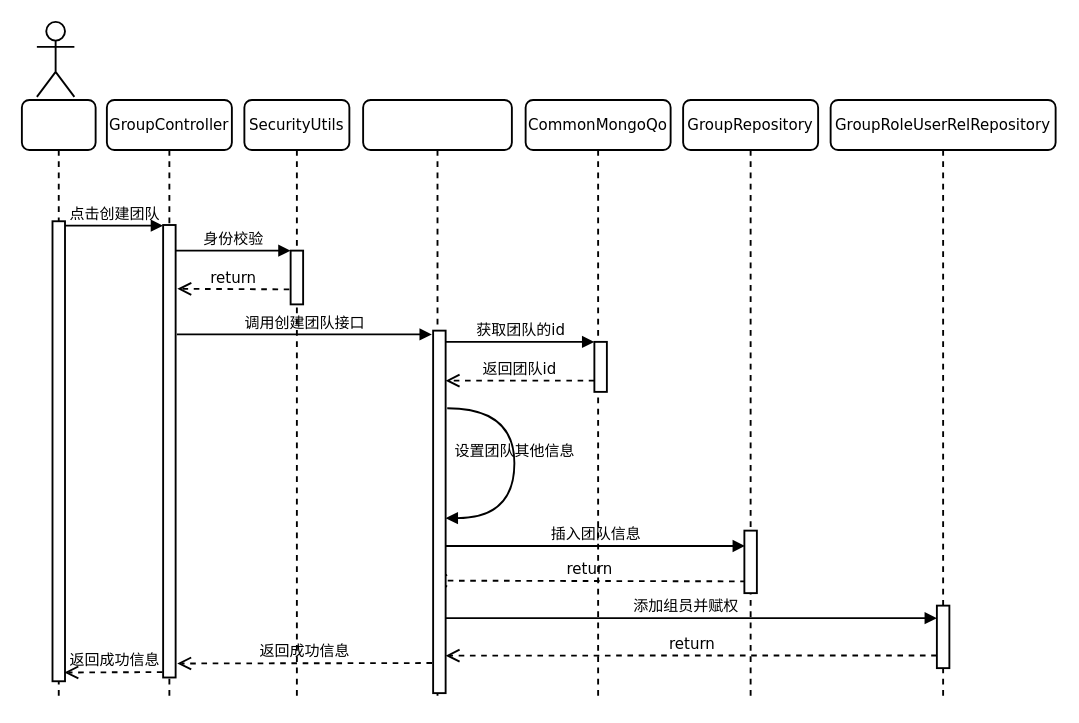
This 1079x723 diagram has some shape labels left out. Each missing label, with the box of its shape:
GroupServiceImpl: (362, 98, 512, 700)
用户: (20, 98, 96, 700)
